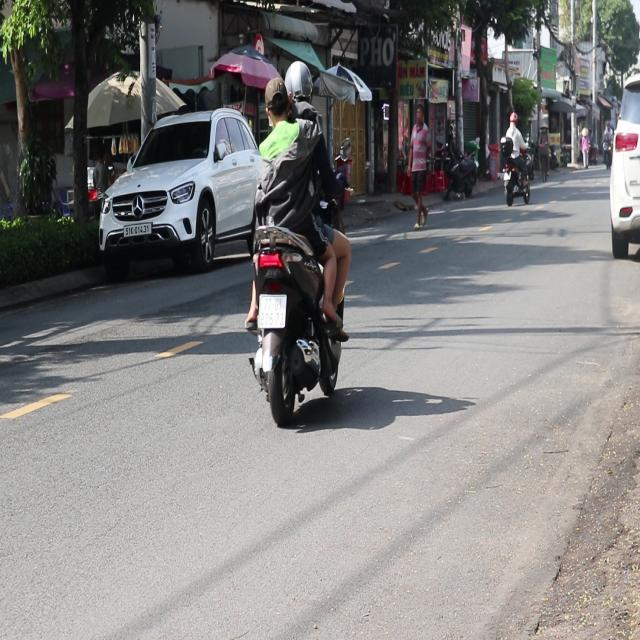helmet: (283, 58, 314, 117)
licenseplate: (242, 56, 353, 426)
motorcyclist: (263, 78, 288, 128)
nohelmet: (258, 294, 286, 326)
